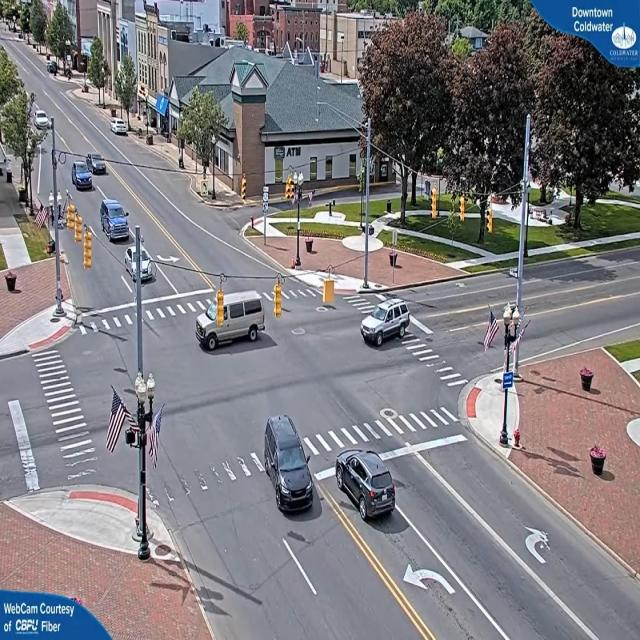car: (264, 416, 316, 515), (334, 451, 398, 523), (196, 291, 265, 352), (358, 298, 412, 347), (102, 202, 132, 242), (129, 242, 155, 284), (72, 162, 95, 190), (88, 154, 108, 176), (112, 121, 131, 138)
